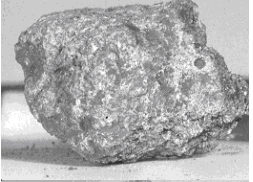Basalt: (6, 0, 249, 172)
